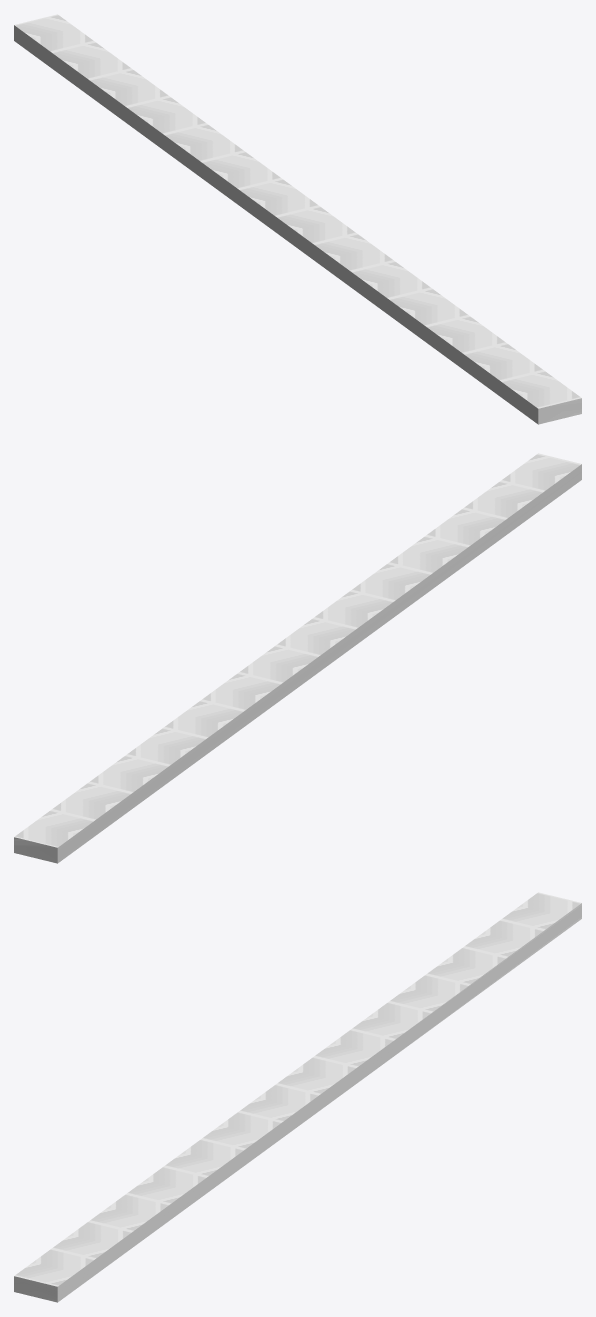
The model's file is Ground_Parts_For_Cannon.fbx.
3 views of the same model, one above another, from view 1: azimuth 30°, elevation 25°; view 2: azimuth 150°, elevation 25°; view 3: azimuth 330°, elevation 25° (orthographic).
Visible parts, largest first — view 1: Part14, Part5, Part2, Part1, Part3, Part6, Part8, Part10, Part11, Part12, Part13, Part4 (+2 smaller); view 2: Part1, Part10, Part13, Part2, Part3, Part4, Part5, Part7, Part9, Part12, Part14, Part6 (+2 smaller); view 3: Part14, Part5, Part2, Part1, Part3, Part6, Part8, Part10, Part11, Part12, Part13, Part4 (+2 smaller).
Part boxes in pixels (x1,y1,x2,y2): Part14: [501, 370, 581, 424]; Part5: [163, 124, 244, 177]; Part2: [51, 42, 132, 95]; Part1: [14, 14, 94, 67]; Part3: [89, 69, 169, 122]; Part6: [201, 151, 281, 204]; Part8: [276, 206, 356, 259]; Part10: [351, 261, 431, 314]; Part11: [388, 288, 469, 341]; Part12: [426, 316, 506, 369]; Part13: [463, 343, 543, 396]; Part4: [126, 96, 206, 149]; Part1: [14, 809, 94, 863]; Part10: [351, 563, 432, 616]; Part13: [463, 481, 544, 534]; Part2: [52, 782, 132, 835]; Part3: [89, 755, 169, 808]; Part4: [126, 727, 207, 780]; Part5: [164, 700, 244, 753]; Part7: [239, 645, 319, 698]; Part9: [314, 590, 394, 643]; Part12: [426, 508, 506, 561]; Part14: [501, 453, 581, 506]; Part6: [202, 672, 282, 726]; Part14: [14, 1248, 94, 1302]; Part5: [351, 1002, 432, 1055]; Part2: [463, 920, 544, 973]; Part1: [501, 892, 581, 945]; Part3: [426, 947, 506, 1000]; Part6: [314, 1029, 394, 1082]; Part8: [239, 1084, 319, 1137]; Part10: [164, 1139, 244, 1192]; Part11: [126, 1166, 207, 1219]; Part12: [89, 1194, 169, 1247]; Part13: [52, 1221, 132, 1274]; Part4: [389, 974, 469, 1027].
Bounding box in the file's own units: 2.89 × 1 × 60.
